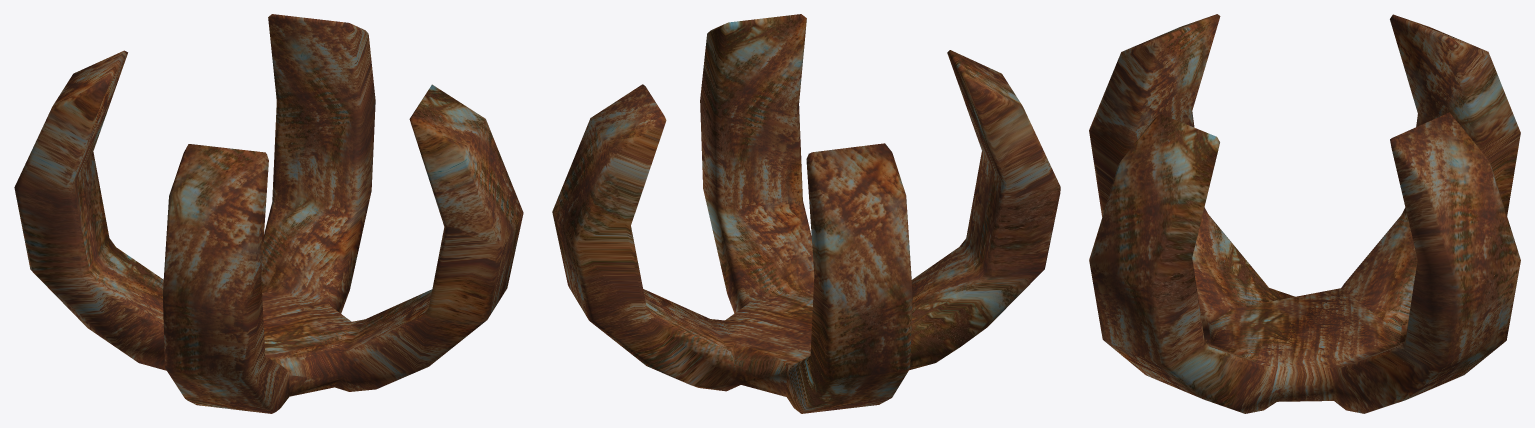
The model's file is claw.fbx.
3 views of the same model, side by side, from view 1: azimuth 30°, elevation 25°; view 2: azimuth 150°, elevation 25°; view 3: azimuth 270°, elevation 25° (orthographic). The views are drawn at different scales.
Parts seen in each view (by area): view 1: Cube; view 2: Cube; view 3: Cube.
Boxes of the visible parts, x1,y1,x2,y2 form: Cube: (14,14,523,413); Cube: (552,14,1060,413); Cube: (1089,14,1520,413).
Bounding box in the file's own units: 441 × 334 × 442.
